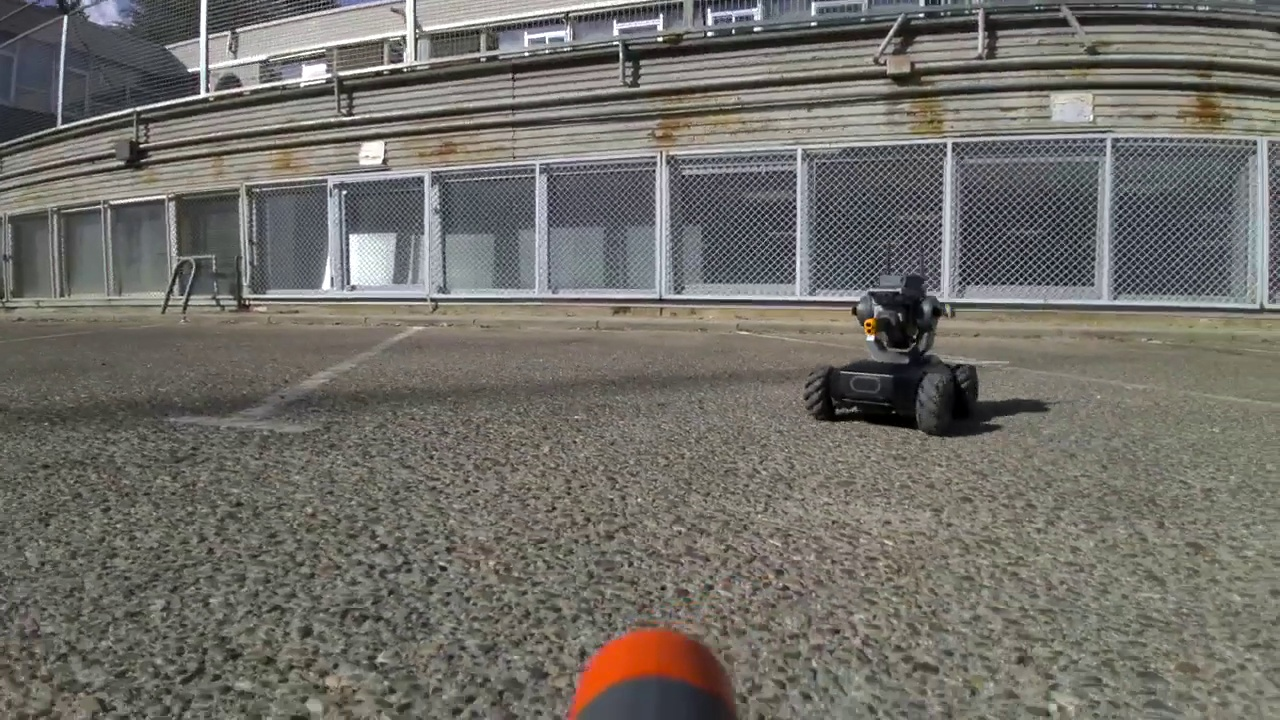robot: (808, 236, 978, 432)
